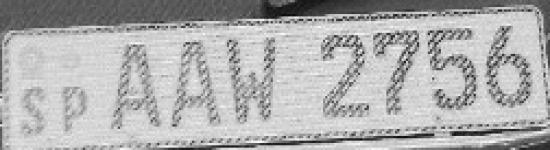2: (310, 27, 372, 120)
5: (423, 24, 482, 117)
6: (481, 20, 537, 113)
7: (370, 24, 424, 120)
A: (104, 38, 167, 134), (167, 37, 224, 132)
P: (56, 80, 100, 138)
S: (12, 84, 54, 140)
W: (225, 33, 286, 128)
